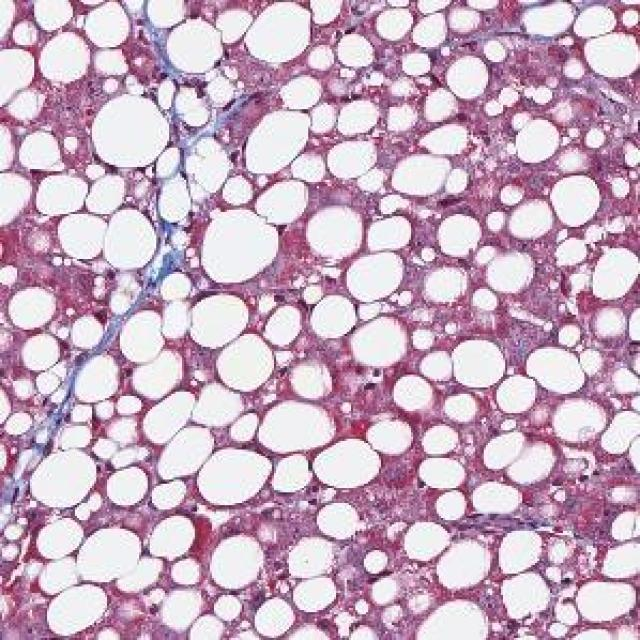fibrosis: (188, 96, 250, 152)
